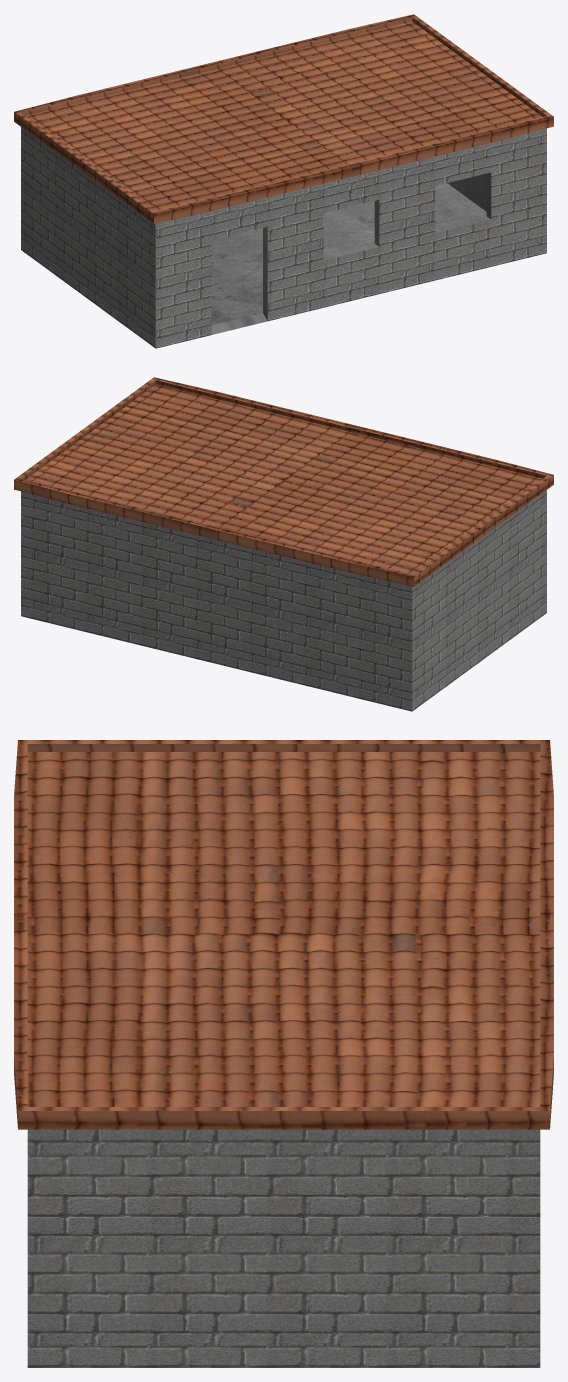
Rendered from HOUSE_07.fbx.
3 renders of one model, top to bottom at view 1: azimuth 30°, elevation 25°; view 2: azimuth 150°, elevation 25°; view 3: azimuth 270°, elevation 25°, orthographic. The views are drawn at different scales.
Visible parts, largest first — view 1: HOUSE_07; view 2: HOUSE_07; view 3: HOUSE_07.
Part boxes in pixels (x1,y1,x2,y2): HOUSE_07: [14, 14, 553, 348]; HOUSE_07: [14, 377, 553, 711]; HOUSE_07: [14, 740, 553, 1367].
Size of the model in its own units: 1093 by 358 by 672.
